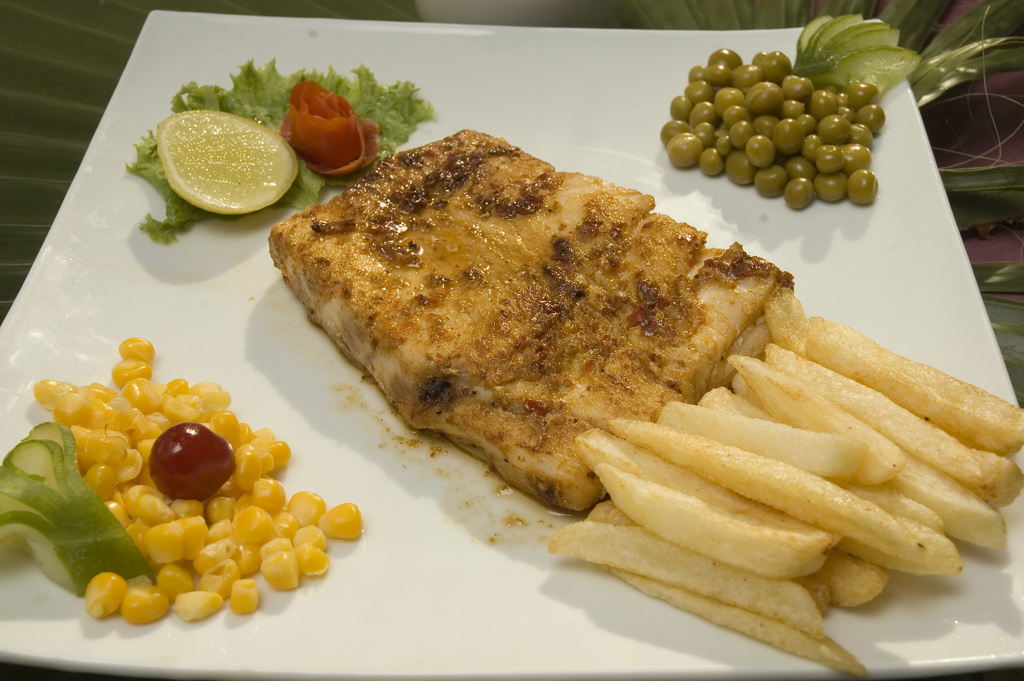French fries: (545, 286, 1022, 676)
